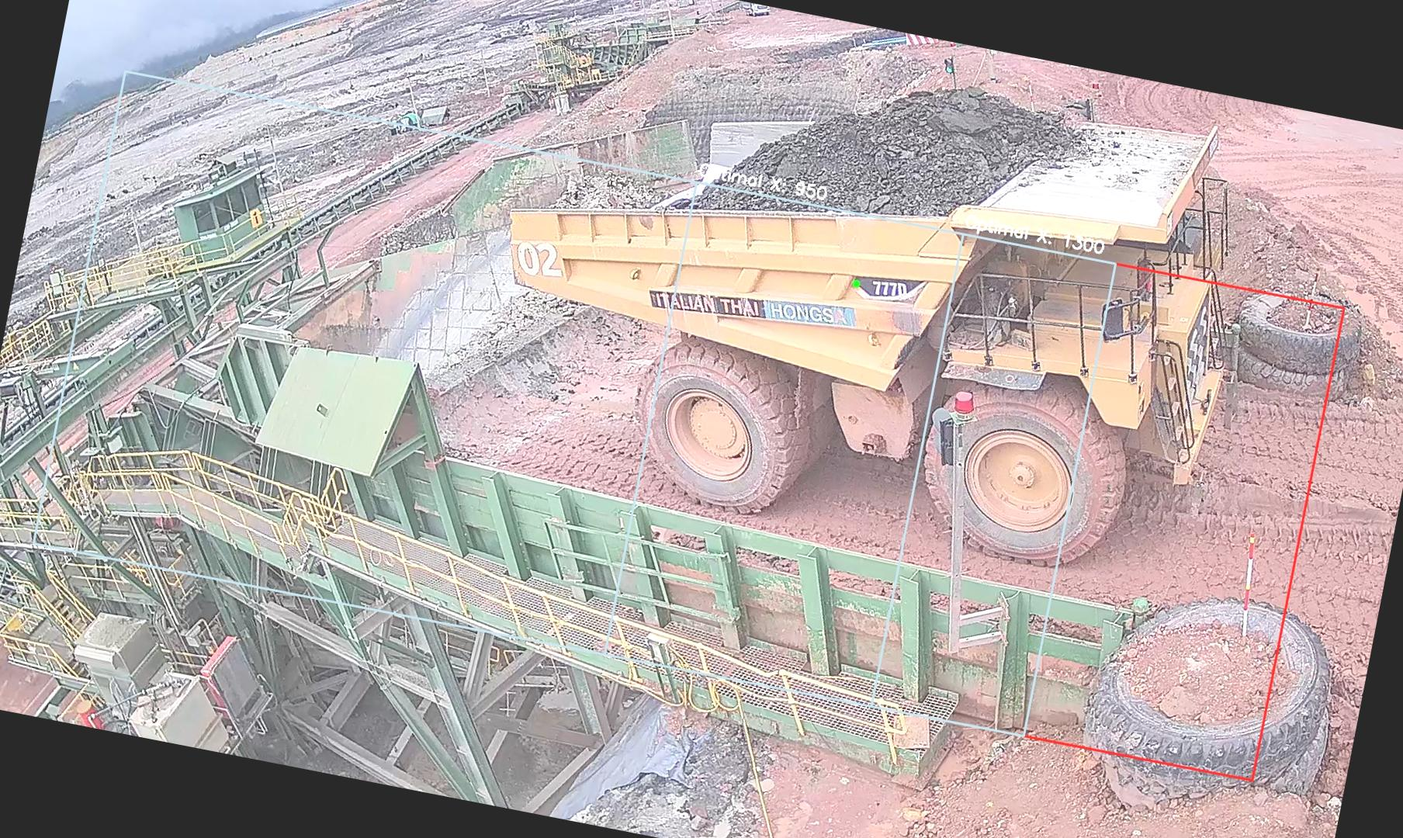company: (637, 262, 872, 351)
full_load: (754, 51, 1024, 262)
mining_truck: (460, 0, 1284, 595)
tail_number: (502, 228, 576, 289)
truck_size: (840, 259, 929, 313)
